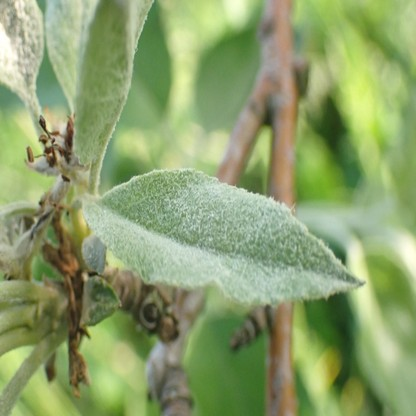powdery_mildew: (82, 168, 364, 302), (76, 0, 155, 169), (0, 1, 45, 95), (47, 0, 81, 50)
